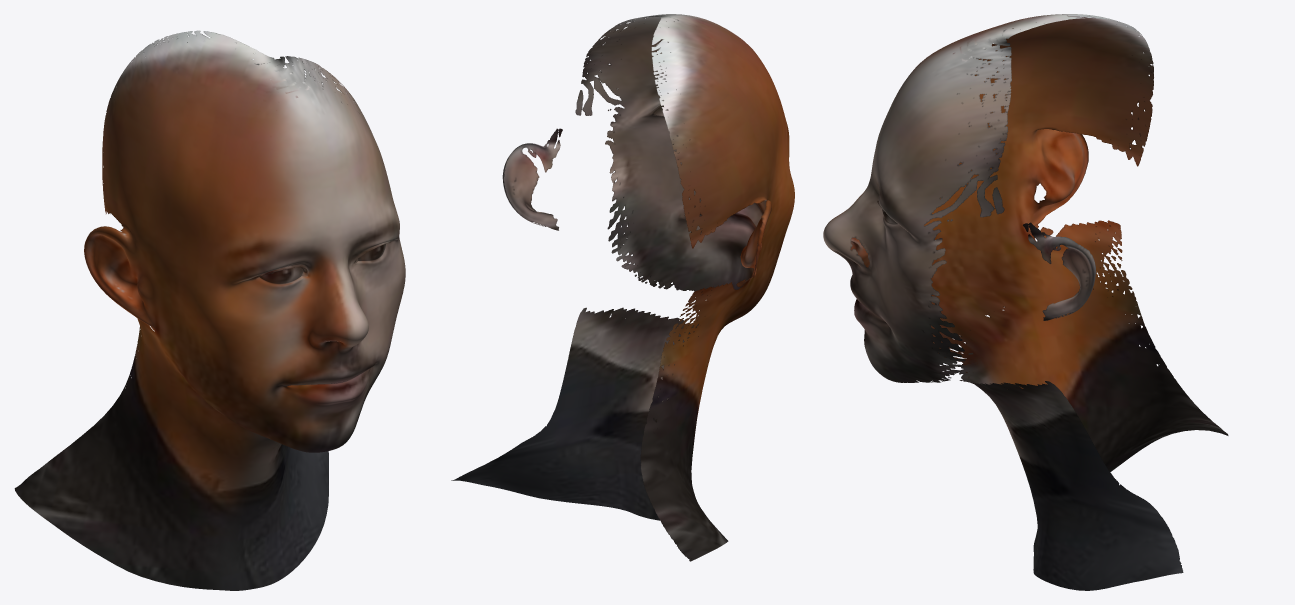
File: AbuTateHead.fbx
3 views of the same model, side by side, from view 1: azimuth 30°, elevation 25°; view 2: azimuth 150°, elevation 25°; view 3: azimuth 270°, elevation 25° (orthographic). The views are drawn at different scales.
Parts seen in each view (by area): view 1: FBHead.001; view 2: FBHead.001; view 3: FBHead.001.
Boxes of the visible parts, x1=… form: FBHead.001: x1=14, y1=30, x2=405, y2=590; FBHead.001: x1=451, y1=14, x2=794, y2=561; FBHead.001: x1=823, y1=14, x2=1228, y2=590.
Size of the model in its own units: 140 by 247 by 191.
1 material, 1 textured.
